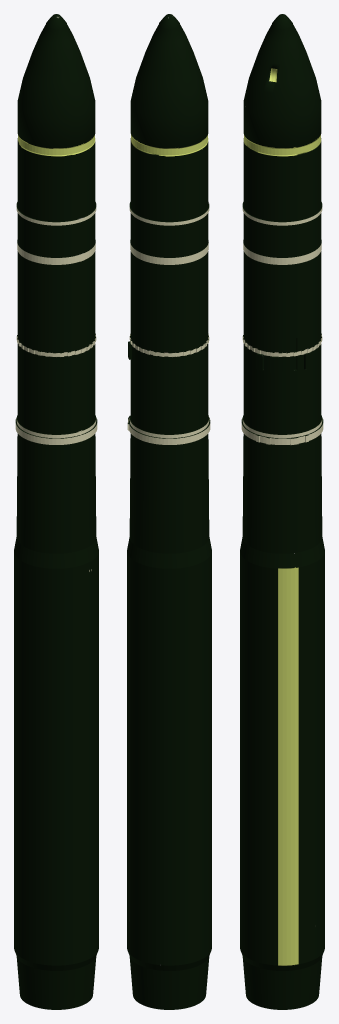
The model's file is icbm.glb.
The picture shows the model from 3 angles, left to right: view 1: azimuth 90°, elevation 25°; view 2: azimuth 150°, elevation 25°; view 3: azimuth 270°, elevation 25°; orthographic projection.
Visible parts, largest first — view 1: Topol-M; view 2: Topol-M; view 3: Topol-M.
Part boxes in pixels (left/top/right/bottom): Topol-M: left=14, top=14, right=98, bottom=1009; Topol-M: left=127, top=14, right=211, bottom=1009; Topol-M: left=240, top=14, right=324, bottom=1009.
Bounding box in the file's own units: 3.27 × 41.67 × 3.27.
1 material, 1 textured.
